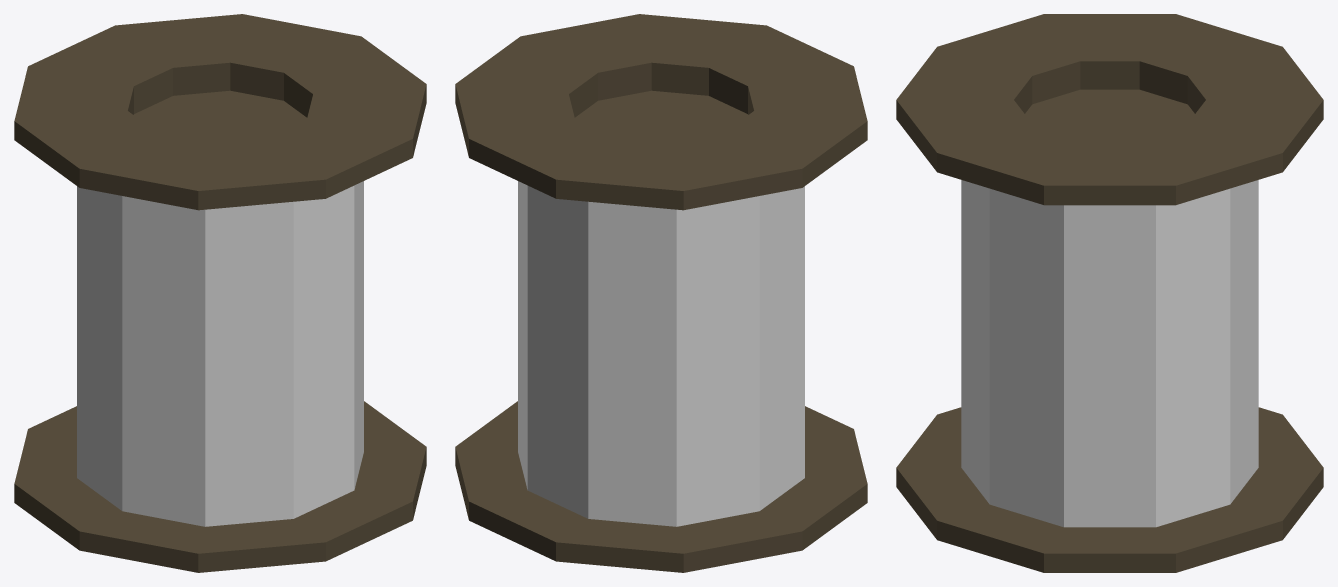
The model's file is Thread.fbx.
3 renders of one model, left to right at view 1: azimuth 30°, elevation 25°; view 2: azimuth 150°, elevation 25°; view 3: azimuth 270°, elevation 25°, orthographic.
Parts seen in each view (by area): view 1: Thread; view 2: Thread; view 3: Thread.
Part boxes in pixels (x1,y1,x2,y2): Thread: (14, 14, 426, 572); Thread: (455, 14, 867, 572); Thread: (896, 14, 1323, 572).
Size of the model in its own units: 21.51 by 22.61 by 22.61.
